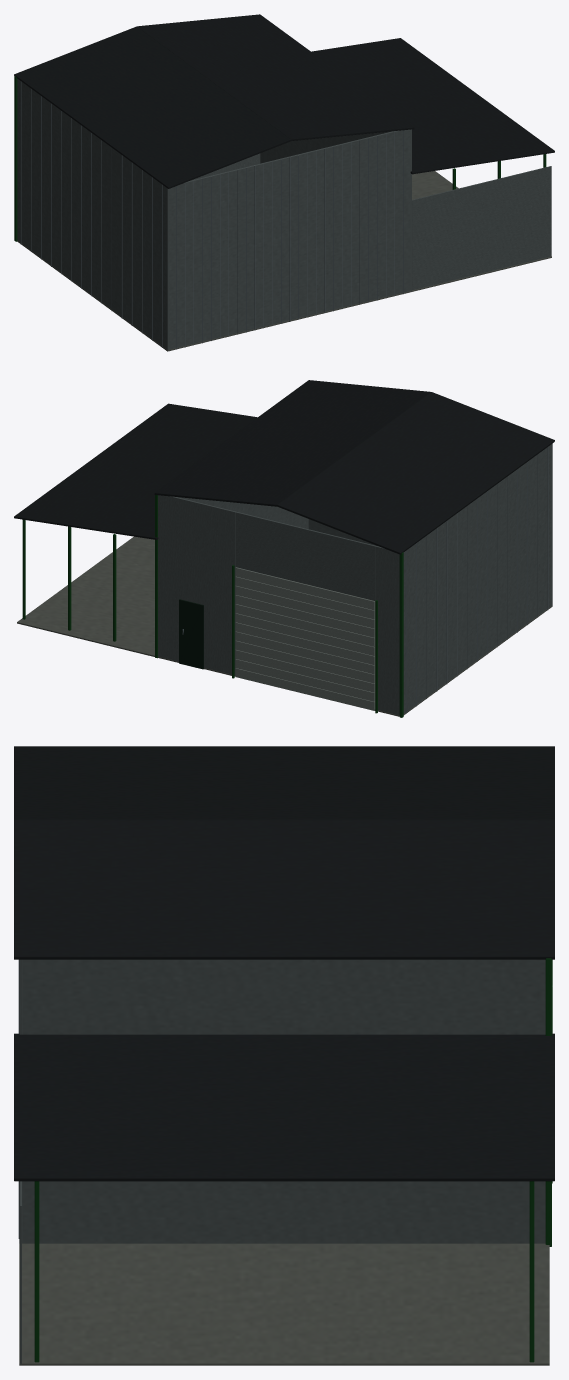
Rendered from EquipmentYard.gltf.
3 renders of one model, top to bottom at view 1: azimuth 30°, elevation 25°; view 2: azimuth 150°, elevation 25°; view 3: azimuth 270°, elevation 25°, orthographic. The views are drawn at different scales.
Visible parts, largest first — view 1: EquipmentYard__Body; view 2: EquipmentYard__Body; view 3: EquipmentYard__Body.
Boxes of the visible parts, bbox=[...] form: EquipmentYard__Body: bbox=[14, 14, 554, 351]; EquipmentYard__Body: bbox=[14, 380, 554, 717]; EquipmentYard__Body: bbox=[14, 746, 554, 1365].
Bounding box in the file's own units: 12.41 × 5.67 × 8.57.
Materials: 1 (1 with a texture image).
